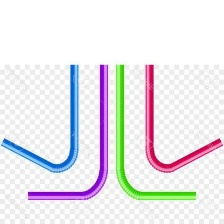drinking_straw: (22, 63, 113, 206), (112, 61, 200, 204), (0, 65, 84, 177), (140, 65, 223, 178)
